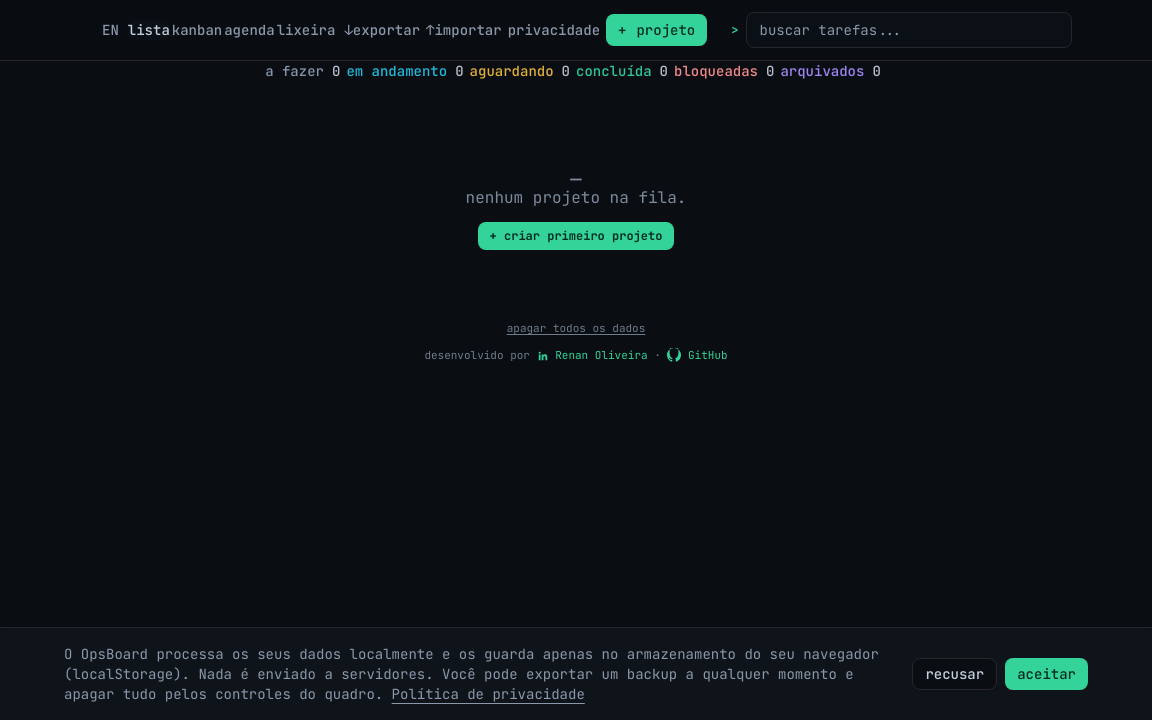
Test case: criação de projeto (integração página) › cria projeto preenchido no modal
Click the button "+ criar primeiro projeto".
click(576, 236)  # box [478, 222, 674, 250]
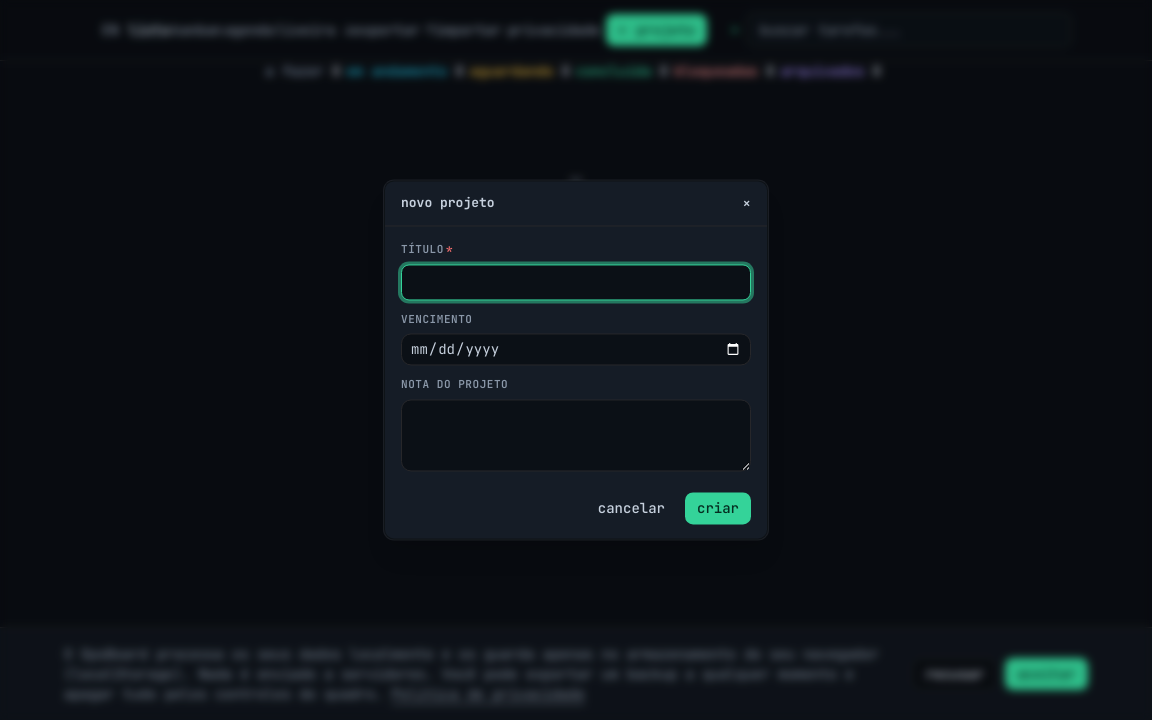
Type "projeto-ci" into the field labelled "título".
click(576, 282); type("projeto-ci")  # box [401, 264, 751, 300]
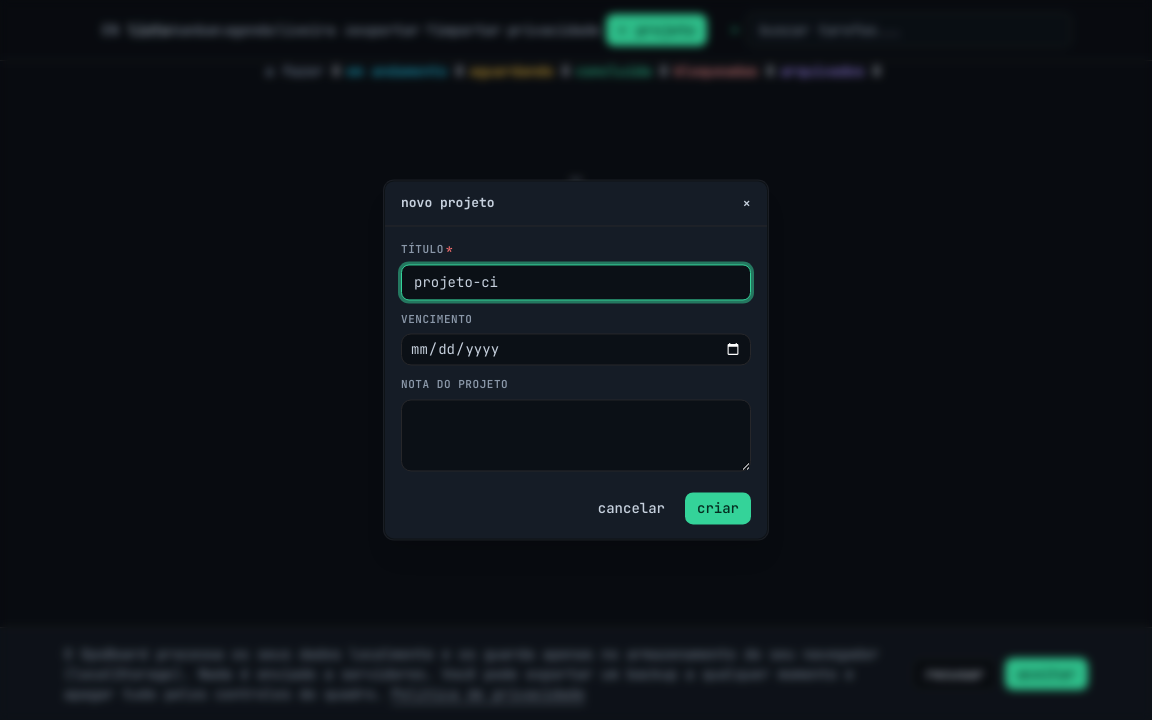
Click the button "criar".
click(718, 509)  # box [685, 493, 751, 525]
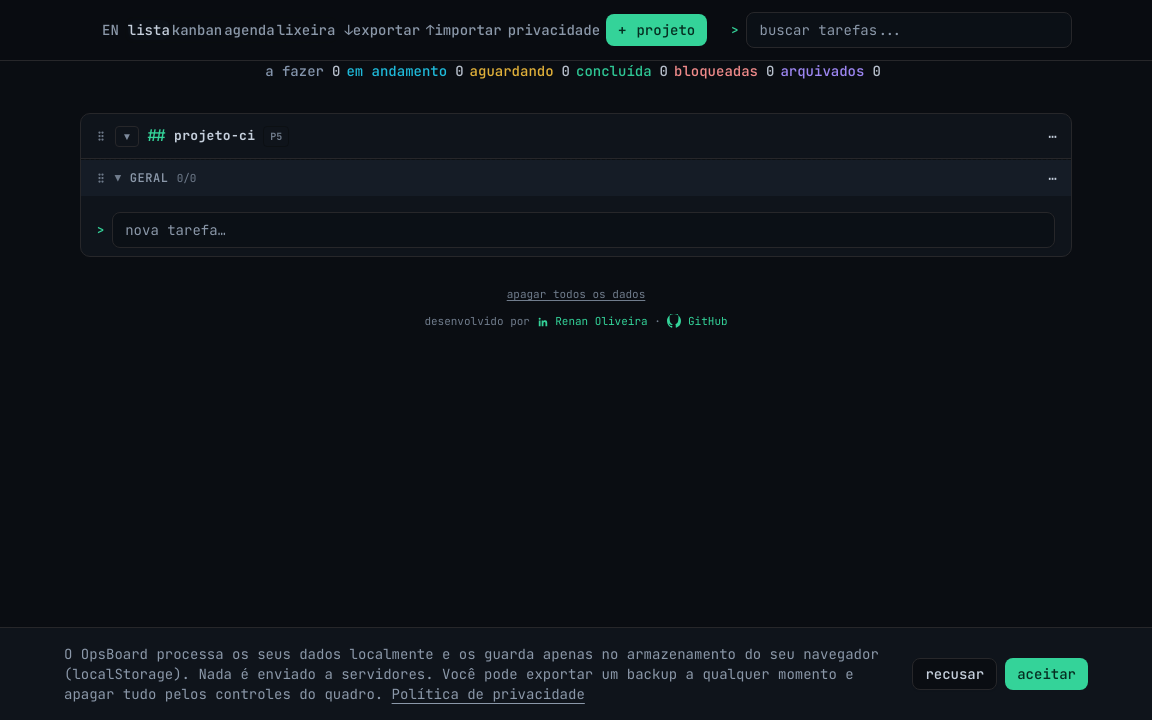
Expected: the heading "projeto-ci" is shown, [174, 126, 255, 146]
